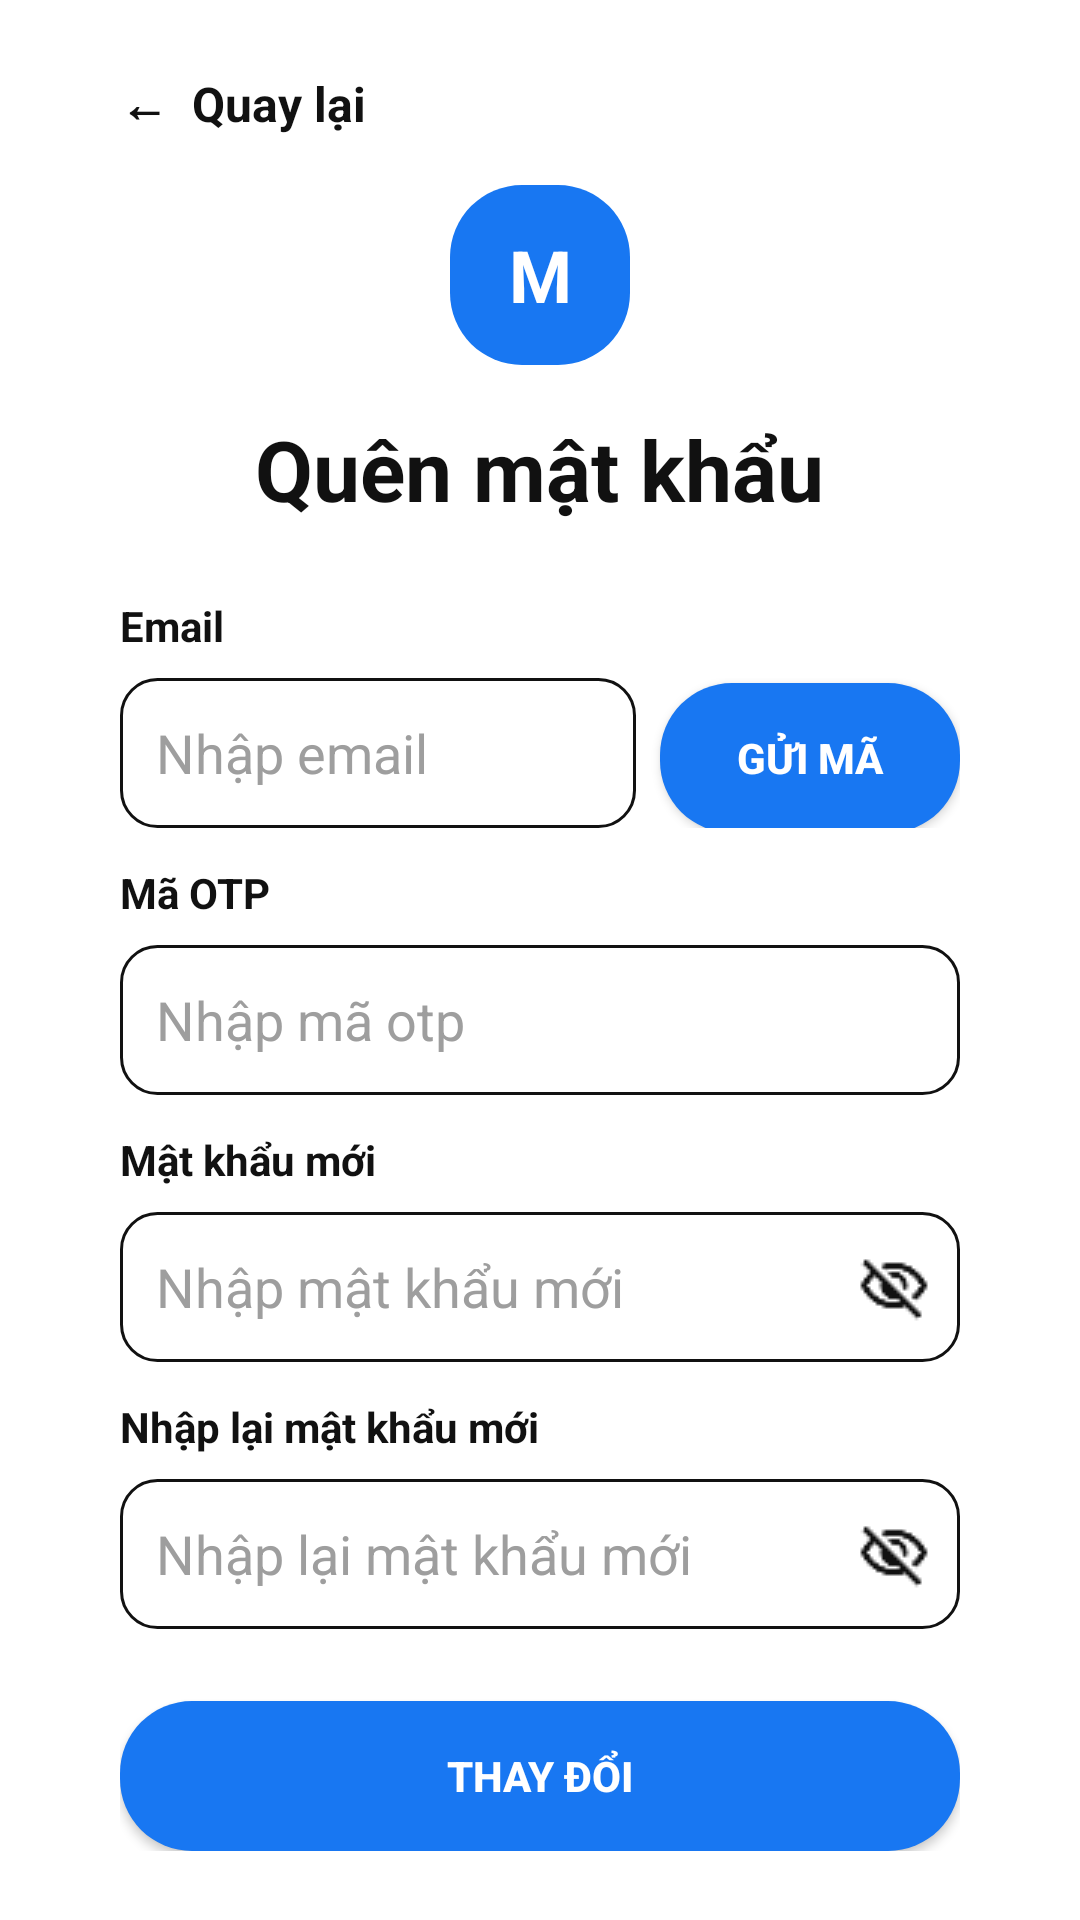

Point at icon controls on the screen. Image size 1080x1920, points as (x,y).
Ẩn/Hiện mật khẩu: (894,1289), (894,1556)
